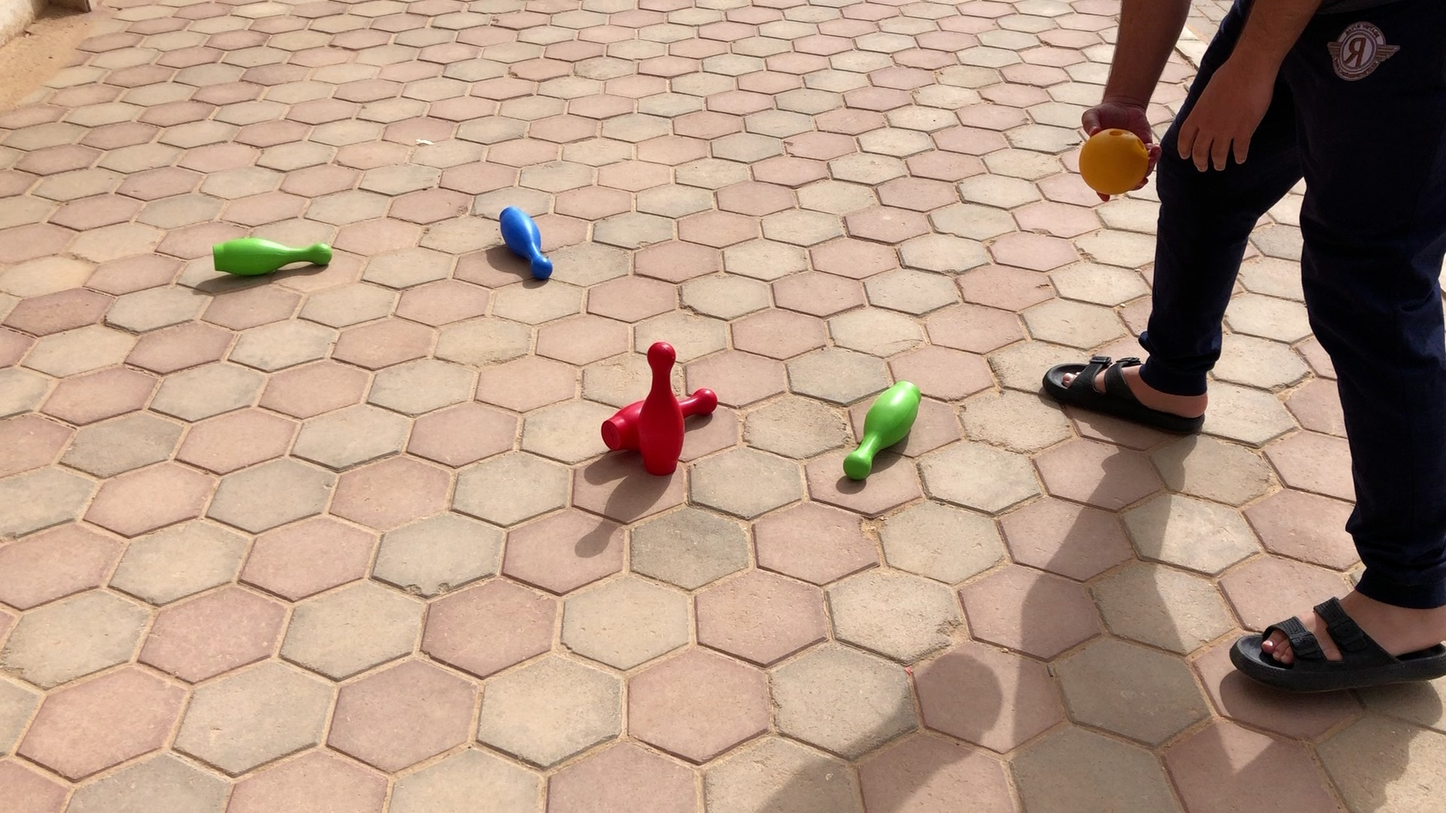bowling-pin: (615, 343, 685, 474), (606, 386, 713, 464), (848, 382, 918, 473), (212, 239, 330, 278), (500, 208, 556, 282)
